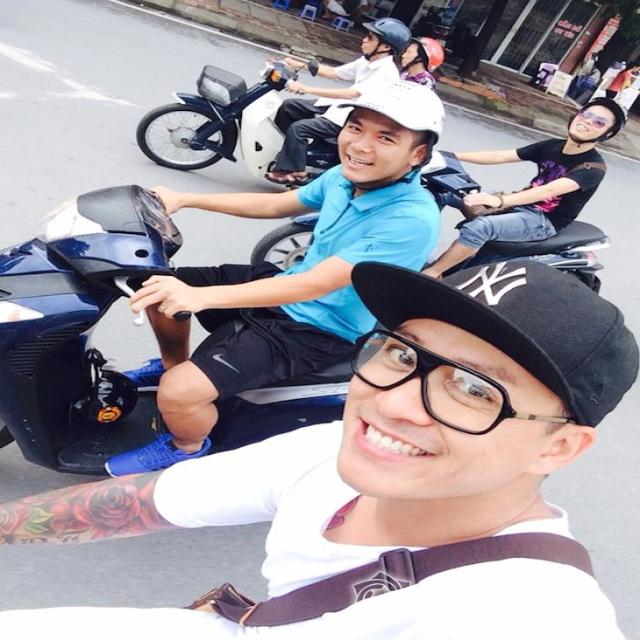no_helmet: (351, 258, 640, 426)
